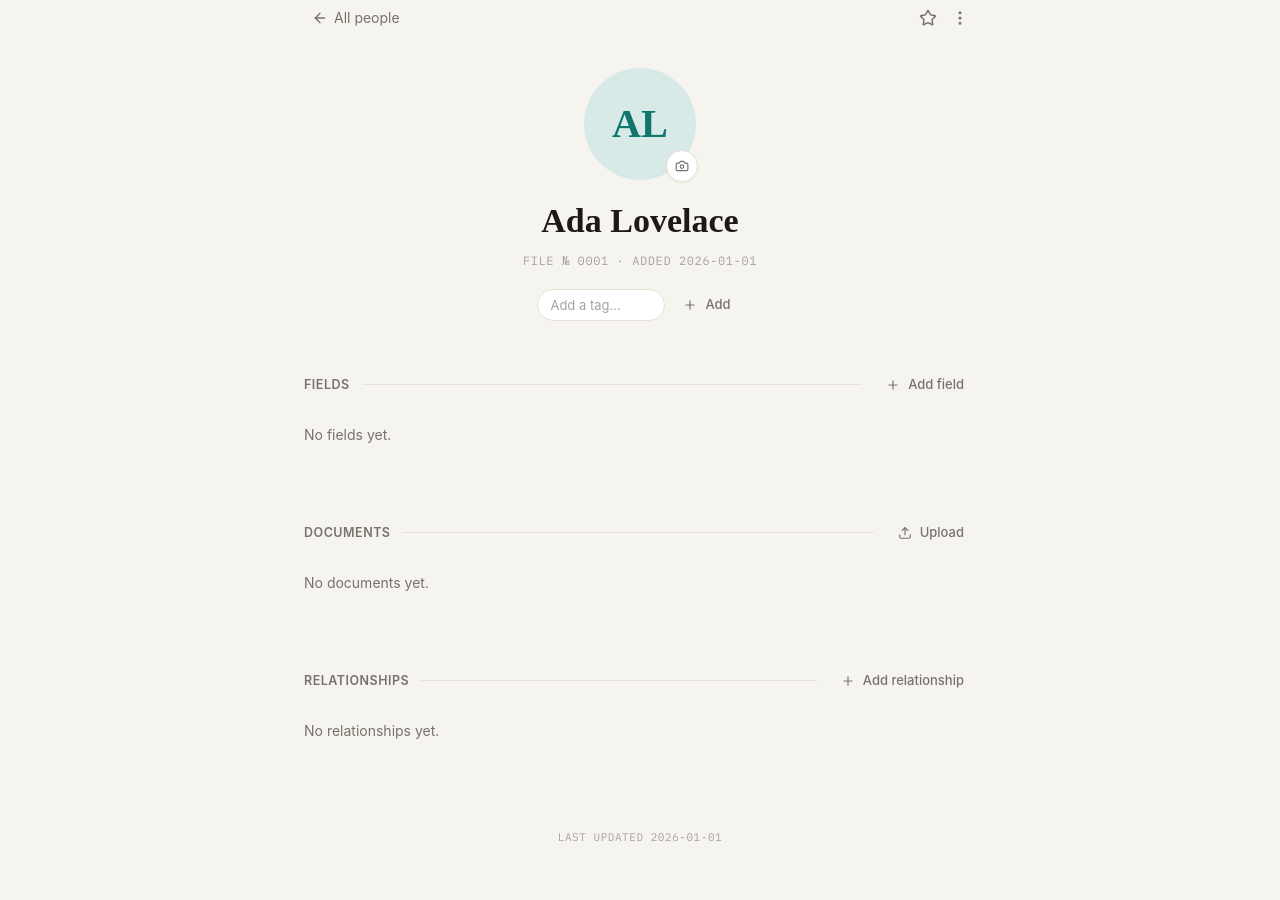
it: PersonPage — letterhead chrome › opens the rename dialog from the menu
This screenshot has width=1280, height=900.
Expected: the heading "Ada Lovelace" is shown, [541, 200, 739, 242]
Click the button named "More actions" at (960, 18), box [944, 2, 976, 34]
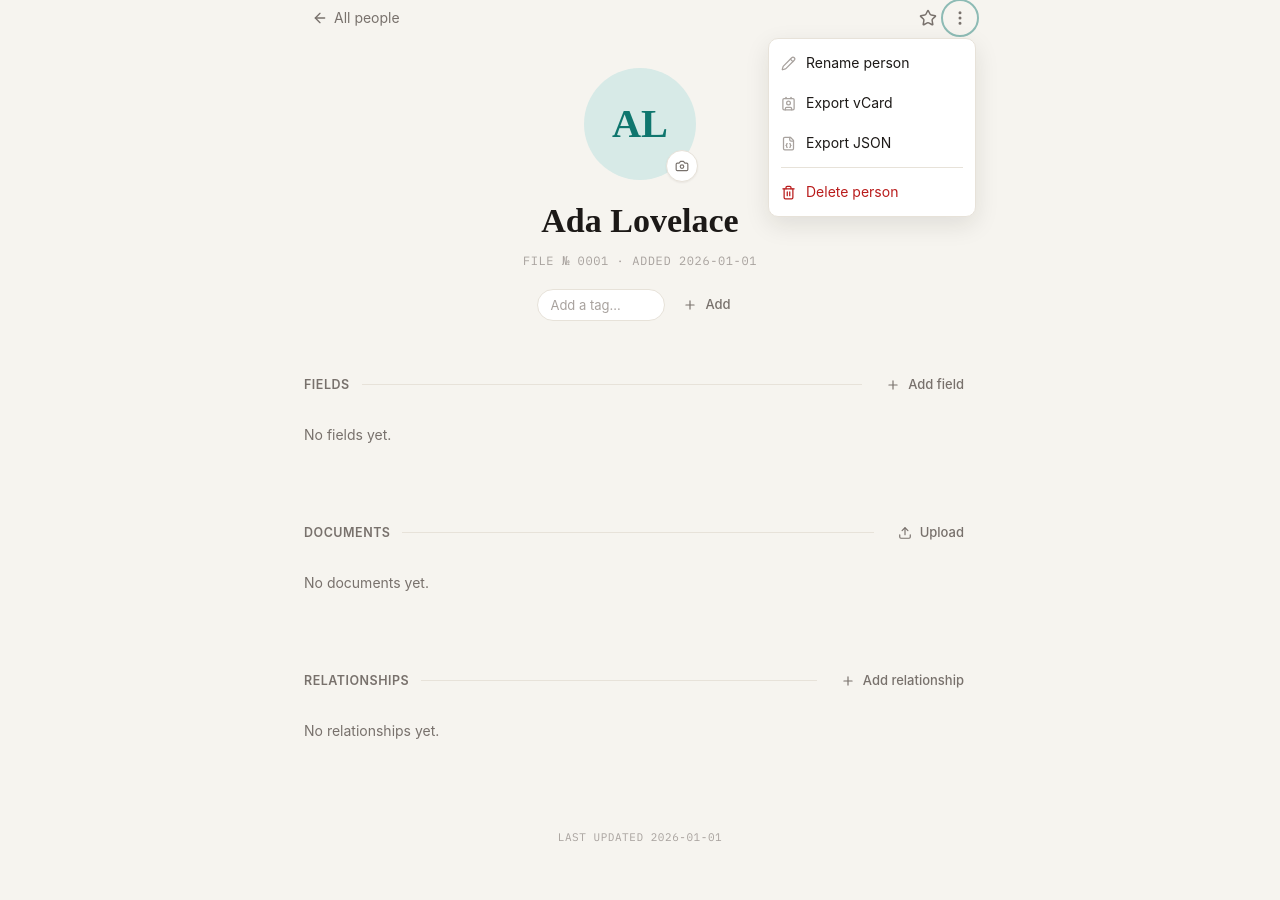
Click the menu item "Rename person" at (872, 63), box [769, 43, 975, 83]
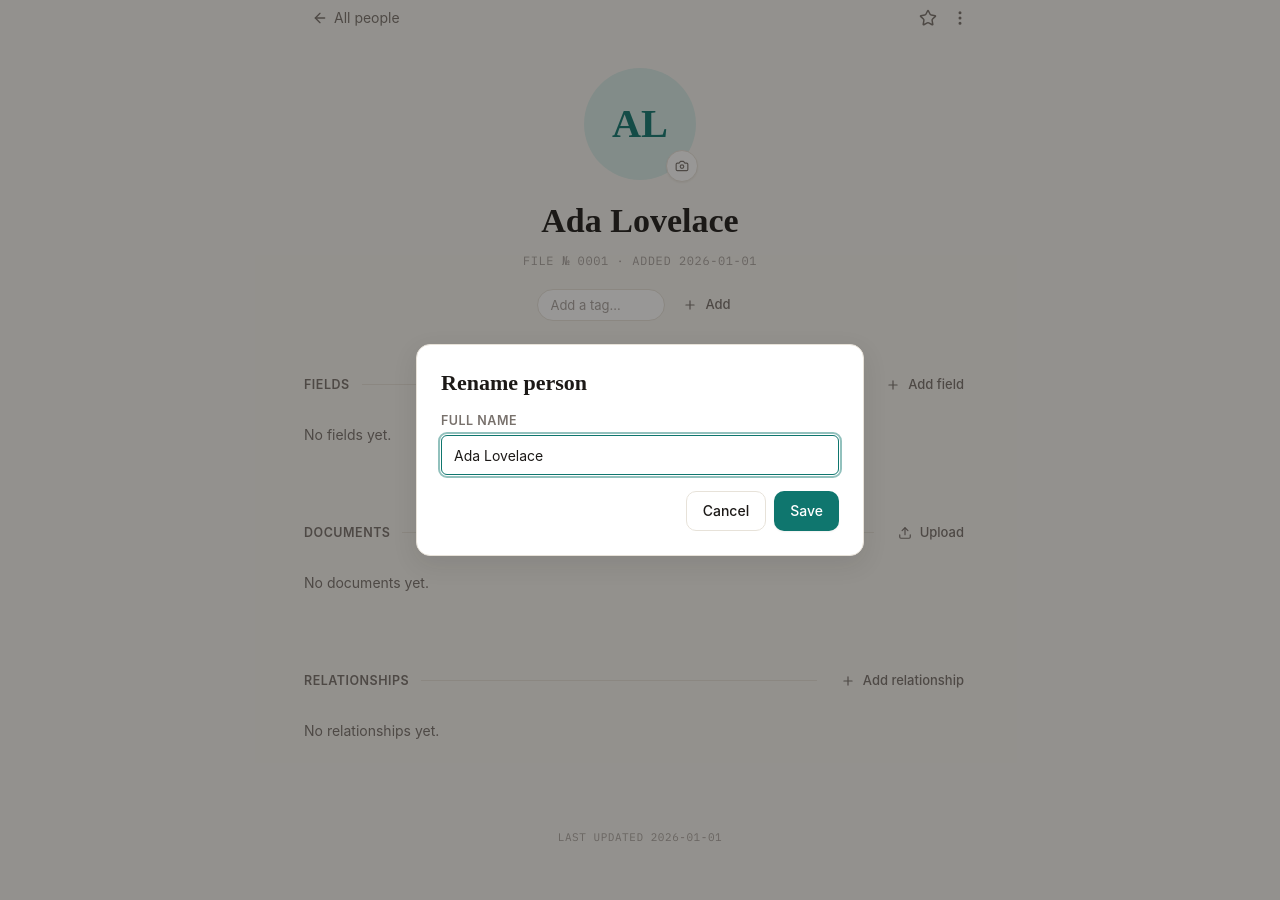
Expected: the dialog "Rename person" is shown, [416, 344, 864, 556]
